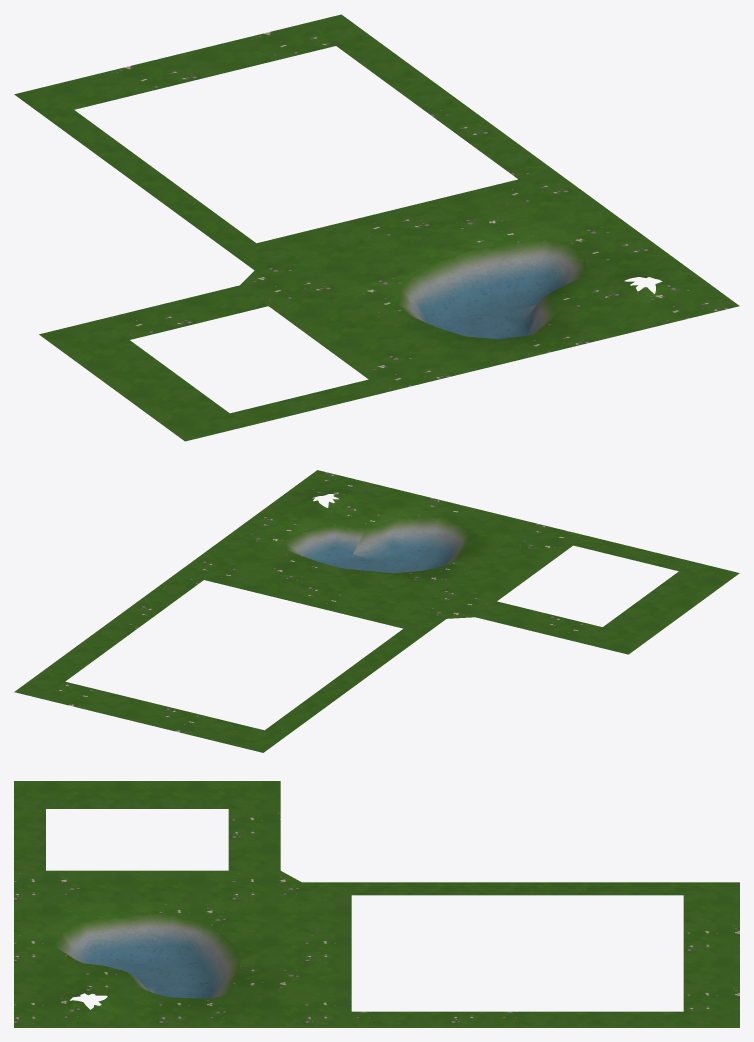
File: SK_Ground_001.FBX
The picture shows the model from 3 angles, top to bottom: view 1: azimuth 30°, elevation 25°; view 2: azimuth 150°, elevation 25°; view 3: azimuth 270°, elevation 25°; orthographic projection. The views are drawn at different scales.
Parts seen in each view (by area): view 1: SK_Ground_001, SK_Ground_001e, SK_Ground_001b, SK_Ground_001d, SK_Ground_001f, SK_Ground_001c, SK_Ground_001a; view 2: SK_Ground_001, SK_Ground_001e, SK_Ground_001b, SK_Ground_001d, SK_Ground_001f, SK_Ground_001c, SK_Ground_001a; view 3: SK_Ground_001, SK_Ground_001e, SK_Ground_001b, SK_Ground_001d, SK_Ground_001f, SK_Ground_001c, SK_Ground_001a.
Part boxes in pixels (<box>): SK_Ground_001: <box>215,161,739,392</box>; SK_Ground_001e: <box>14,14,371,116</box>; SK_Ground_001b: <box>39,319,246,441</box>; SK_Ground_001d: <box>336,37,541,169</box>; SK_Ground_001f: <box>45,110,243,240</box>; SK_Ground_001c: <box>101,285,268,339</box>; SK_Ground_001a: <box>230,379,385,426</box>; SK_Ground_001: <box>167,470,586,640</box>; SK_Ground_001e: <box>14,675,286,752</box>; SK_Ground_001b: <box>581,561,739,654</box>; SK_Ground_001d: <box>38,580,193,681</box>; SK_Ground_001f: <box>265,636,415,735</box>; SK_Ground_001c: <box>475,601,602,642</box>; SK_Ground_001a: <box>573,536,691,571</box>; SK_Ground_001: <box>14,870,374,1027</box>; SK_Ground_001e: <box>683,882,739,1027</box>; SK_Ground_001b: <box>14,781,280,808</box>; SK_Ground_001d: <box>374,1011,683,1027</box>; SK_Ground_001f: <box>374,882,683,895</box>; SK_Ground_001c: <box>228,809,280,870</box>; SK_Ground_001a: <box>14,809,45,870</box>.
Size of the model in its own units: 1981 by 124 by 2464.
